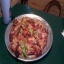pizza: (6, 17, 50, 55)
